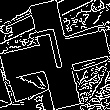L_S: (34, 27, 76, 83)
